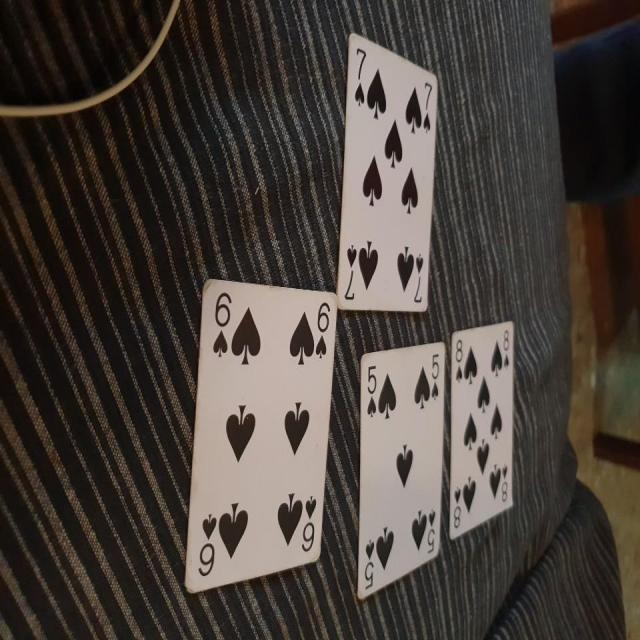5 Spades: (354, 337, 449, 604)
6 Spades: (181, 274, 342, 597)
7 Spades: (333, 16, 436, 319)
8 Spades: (447, 308, 526, 550)
